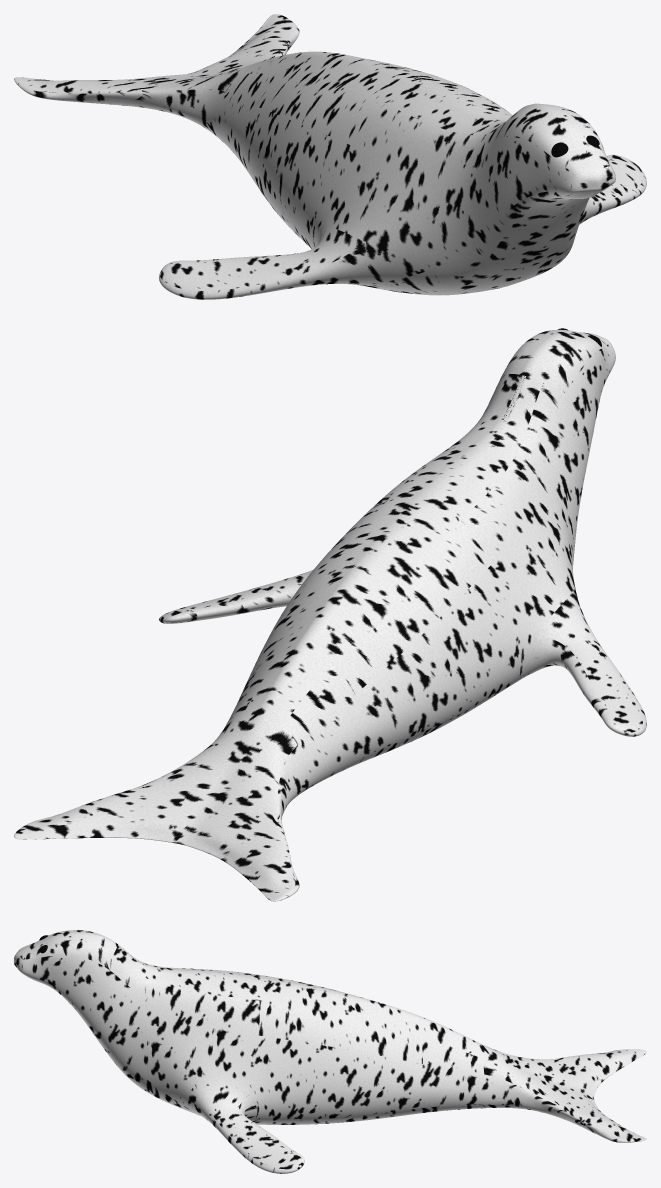
The model's file is Seal.obj.
3 renders of one model, top to bottom at view 1: azimuth 30°, elevation 25°; view 2: azimuth 150°, elevation 25°; view 3: azimuth 270°, elevation 25°, orthographic. The views are drawn at different scales.
Visible parts, largest first — view 1: Seal_Body; view 2: Seal_Body; view 3: Seal_Body.
Part boxes in pixels (x1,y1,x2,y2): Seal_Body: (14,14,646,299); Seal_Body: (14,329,646,901); Seal_Body: (14,930,646,1173).
Bounding box in the file's own units: 0.8685 × 0.4397 × 1.43.
Materials: 2 (1 with a texture image).
